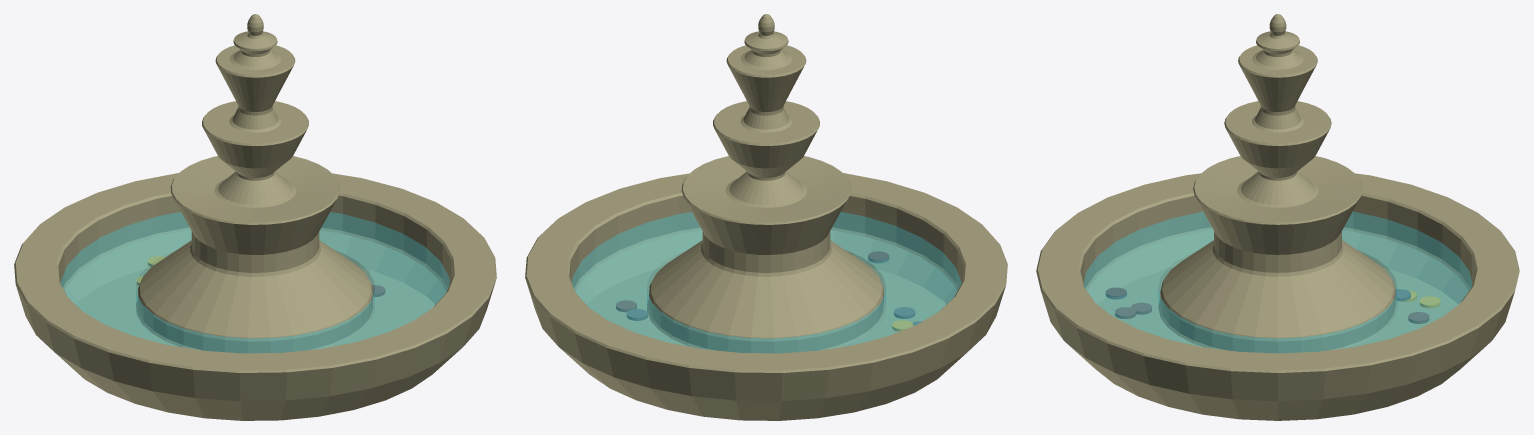
The model's file is Fountain.fbx.
3 views of the same model, side by side, from view 1: azimuth 30°, elevation 25°; view 2: azimuth 150°, elevation 25°; view 3: azimuth 270°, elevation 25° (orthographic).
Parts seen in each view (by area): view 1: Circle.001; view 2: Circle.001; view 3: Circle.001.
Part boxes in pixels (<box>): Circle.001: <box>14,14,496,420</box>; Circle.001: <box>525,14,1007,420</box>; Circle.001: <box>1036,14,1519,420</box>.
Size of the model in its own units: 245 by 181 by 245.
